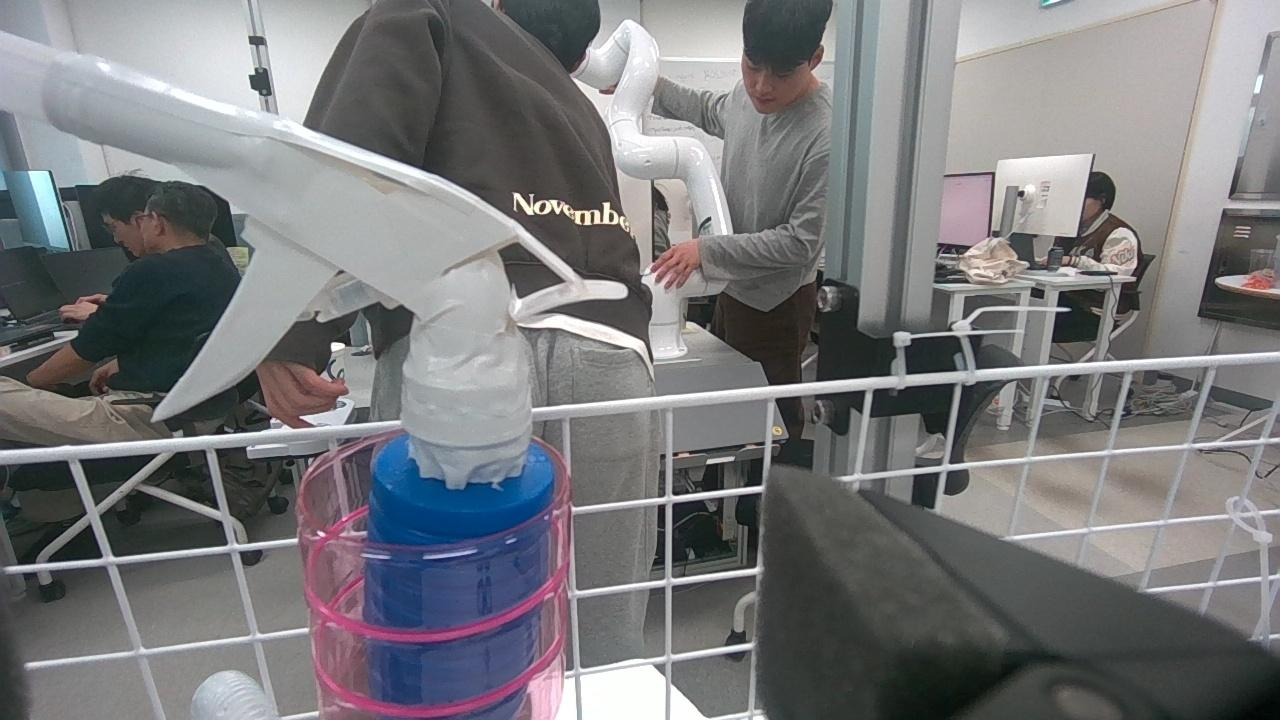Nozzle: (39, 50, 631, 720)
